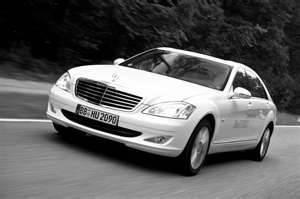car: (46, 48, 277, 177)
